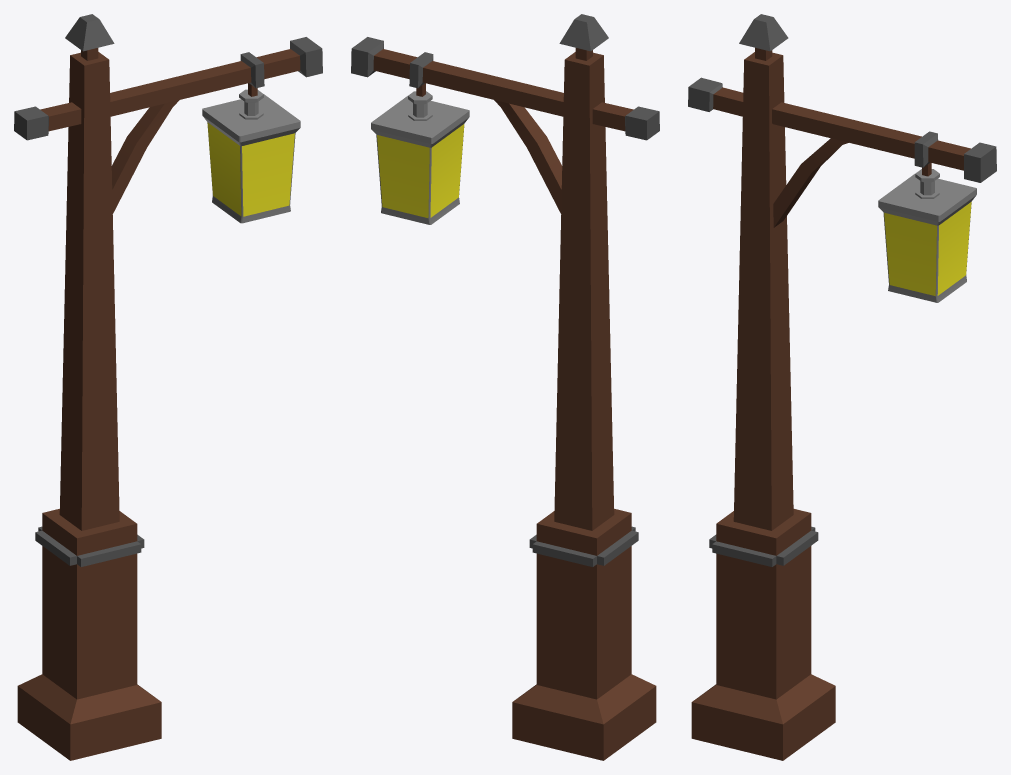
File: PosteofLightWithLight.fbx
3 views of the same model, side by side, from view 1: azimuth 30°, elevation 25°; view 2: azimuth 150°, elevation 25°; view 3: azimuth 330°, elevation 25° (orthographic).
Parts seen in each view (by area): view 1: Lamp; view 2: Lamp; view 3: Lamp.
Part boxes in pixels (box(x1,y1,x2,y2)): Lamp: box(14, 14, 322, 760); Lamp: box(351, 14, 659, 760); Lamp: box(688, 14, 996, 760).
Bounding box in the file's own units: 96.45 × 223 × 29.95.
